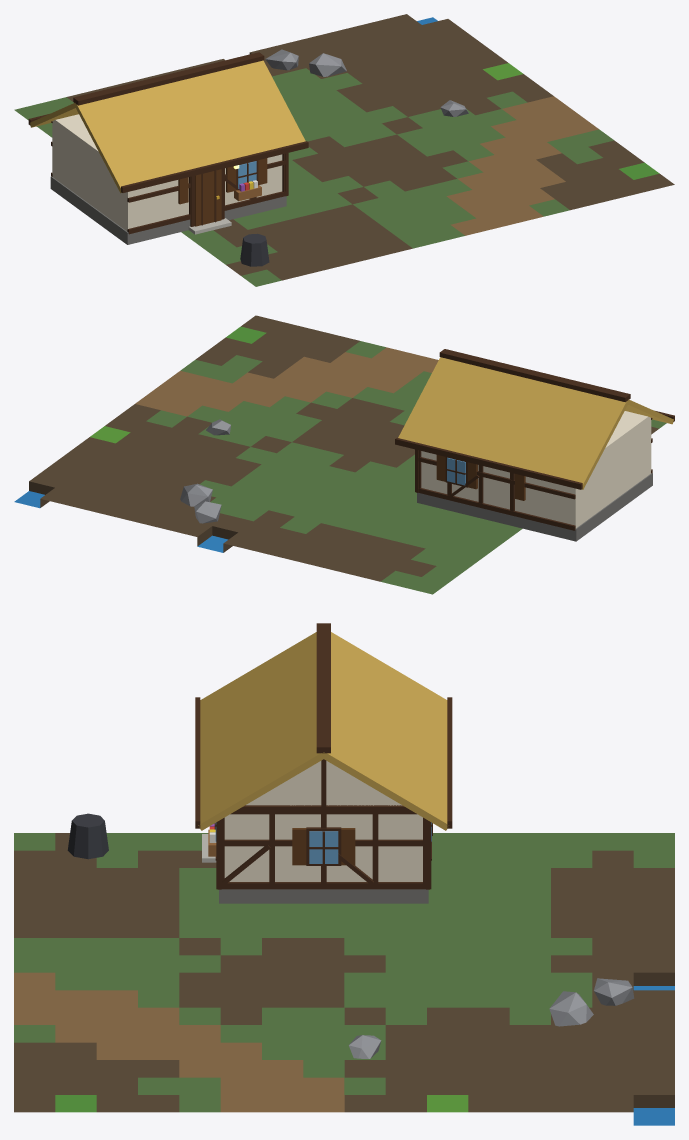
The model's file is chunk_2_16.glb.
3 views of the same model, one above another, from view 1: azimuth 30°, elevation 25°; view 2: azimuth 150°, elevation 25°; view 3: azimuth 270°, elevation 25° (orthographic). The views are drawn at different scales.
Visible parts, largest first — view 1: chunk_2_16; view 2: chunk_2_16; view 3: chunk_2_16.
Part boxes in pixels (bbox=[...]): chunk_2_16: bbox=[14, 14, 674, 286]; chunk_2_16: bbox=[14, 315, 674, 594]; chunk_2_16: bbox=[14, 623, 674, 1125].
Bounding box in the file's own units: 18.55 × 4.76 × 16.
